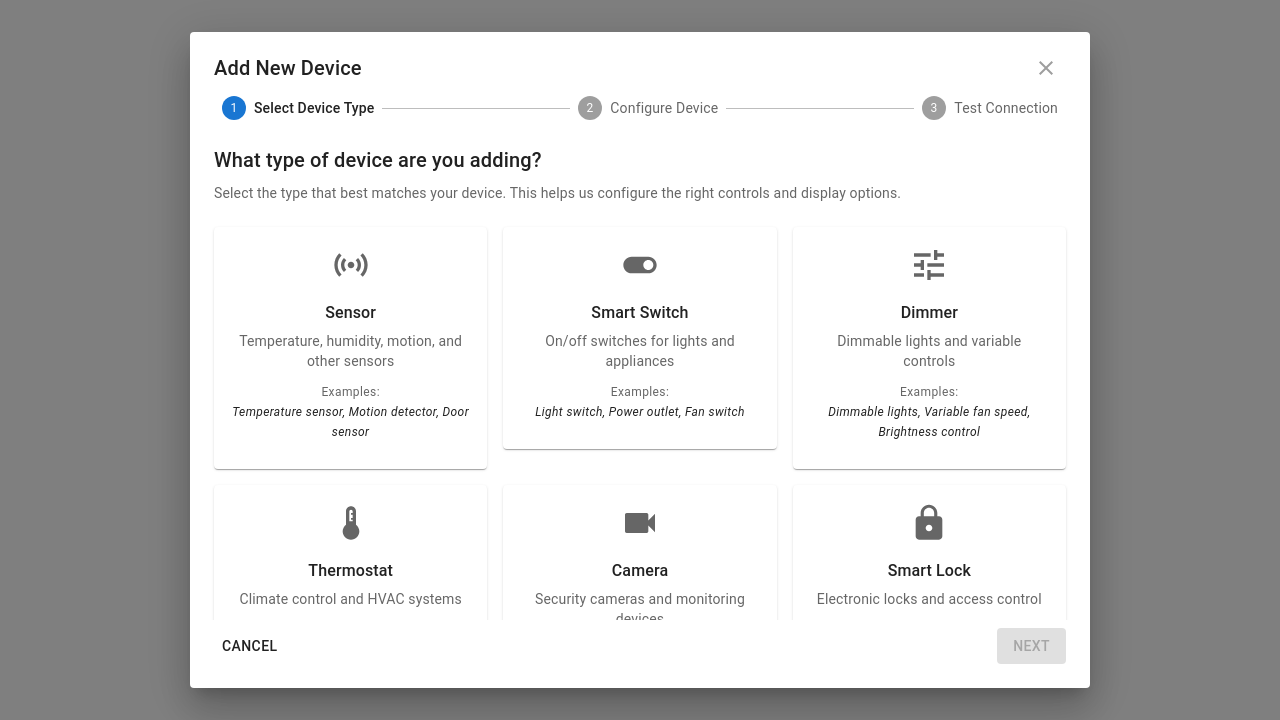
Scenario: AddDeviceWizard › enables Next button when device type is selected
Click the text "Sensor" at (351, 348), box [216,229,485,467]
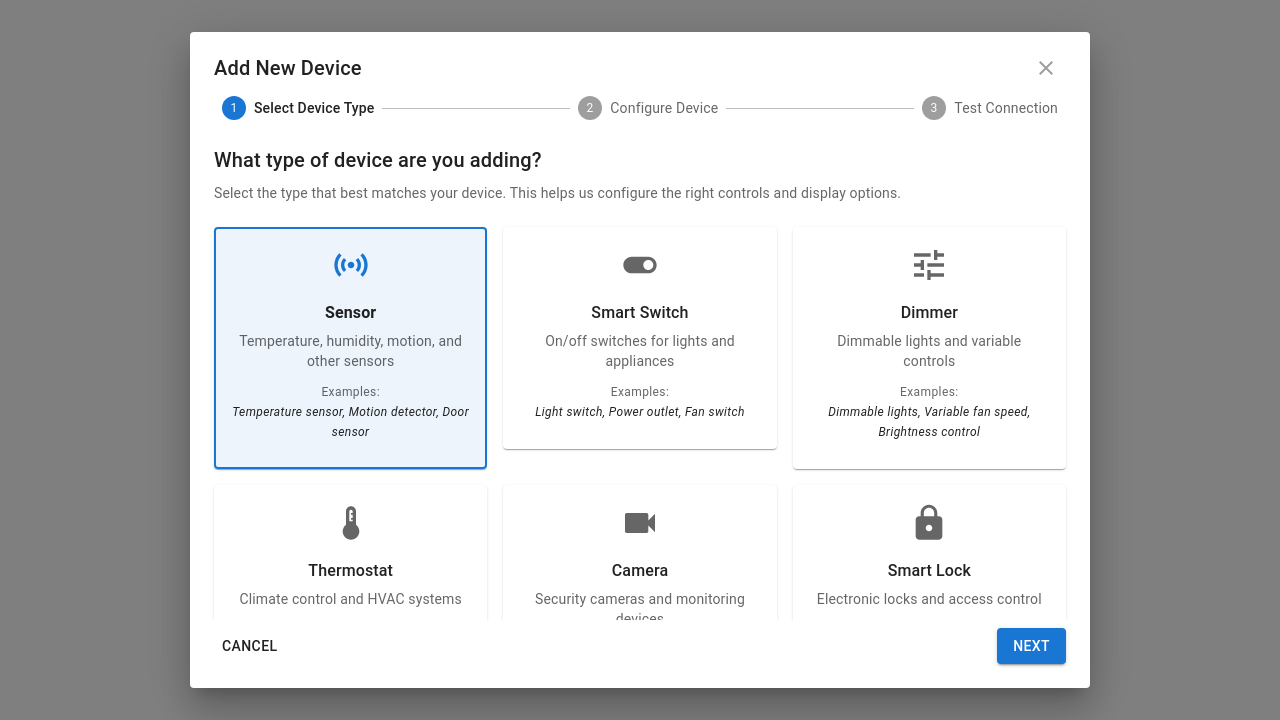
Now the button "Next" is enabled, box [997,628,1066,664]
